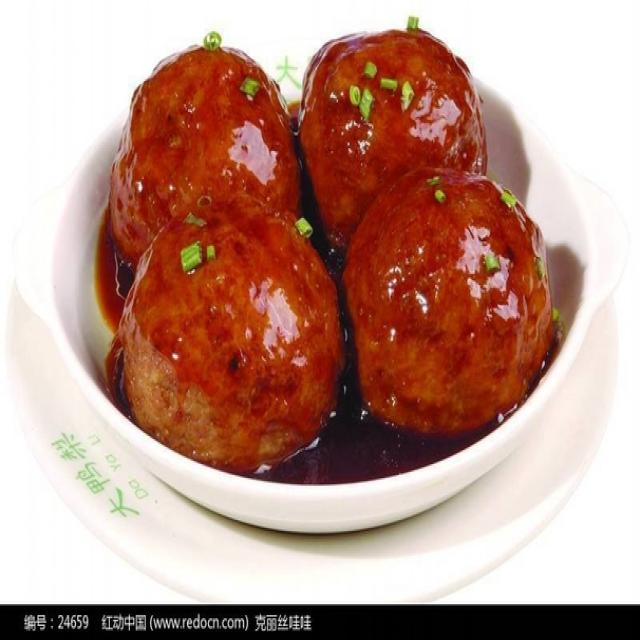Meatball: (101, 190, 342, 475), (332, 154, 560, 455), (88, 38, 310, 272), (299, 23, 497, 237)
